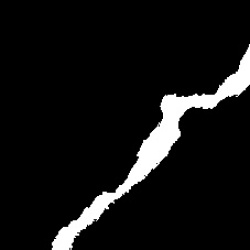crack: (51, 52, 247, 246)
